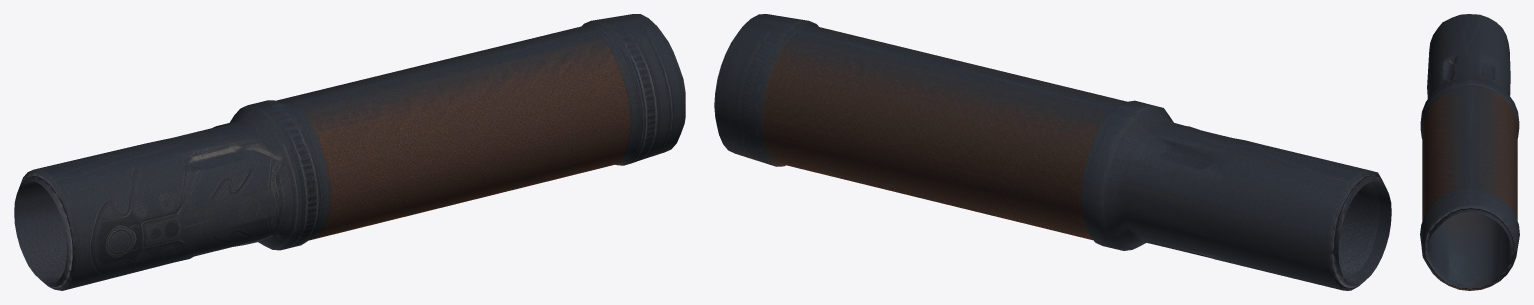
Rendered from weapon-suppressor.glb.
The picture shows the model from 3 angles, left to right: view 1: azimuth 30°, elevation 25°; view 2: azimuth 150°, elevation 25°; view 3: azimuth 270°, elevation 25°; orthographic projection. The views are drawn at different scales.
Size of the model in its own units: 0.9575 by 0.2012 by 0.2017.
Materials: 1 (1 with a texture image).
